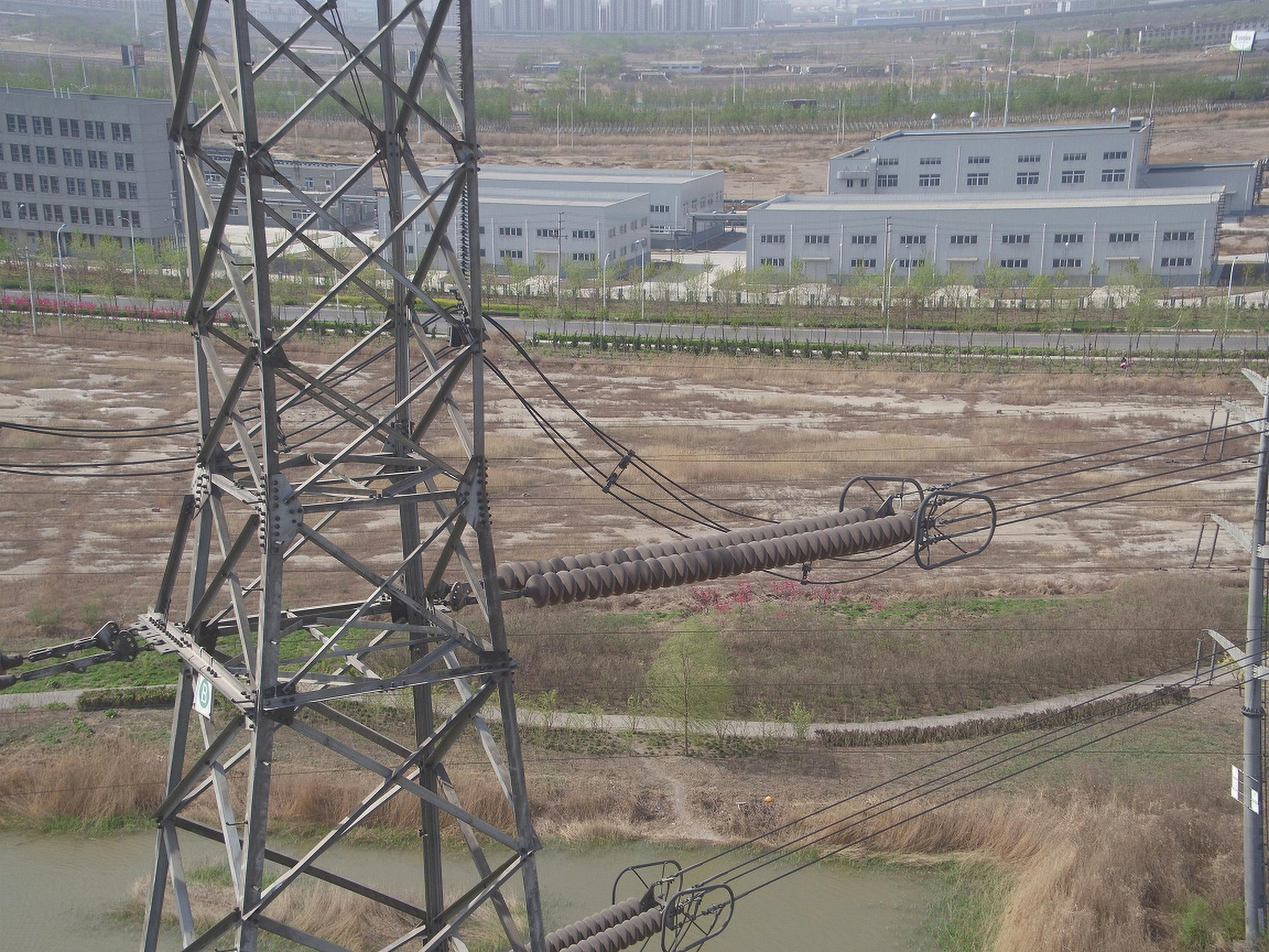insulator: (493, 505, 918, 612), (540, 891, 676, 952)
